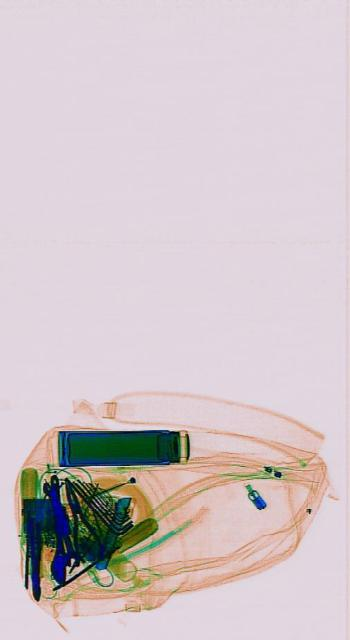Pliers: (53, 467, 104, 573), (27, 516, 41, 602)
Wrench: (43, 482, 80, 570), (44, 472, 72, 584)
